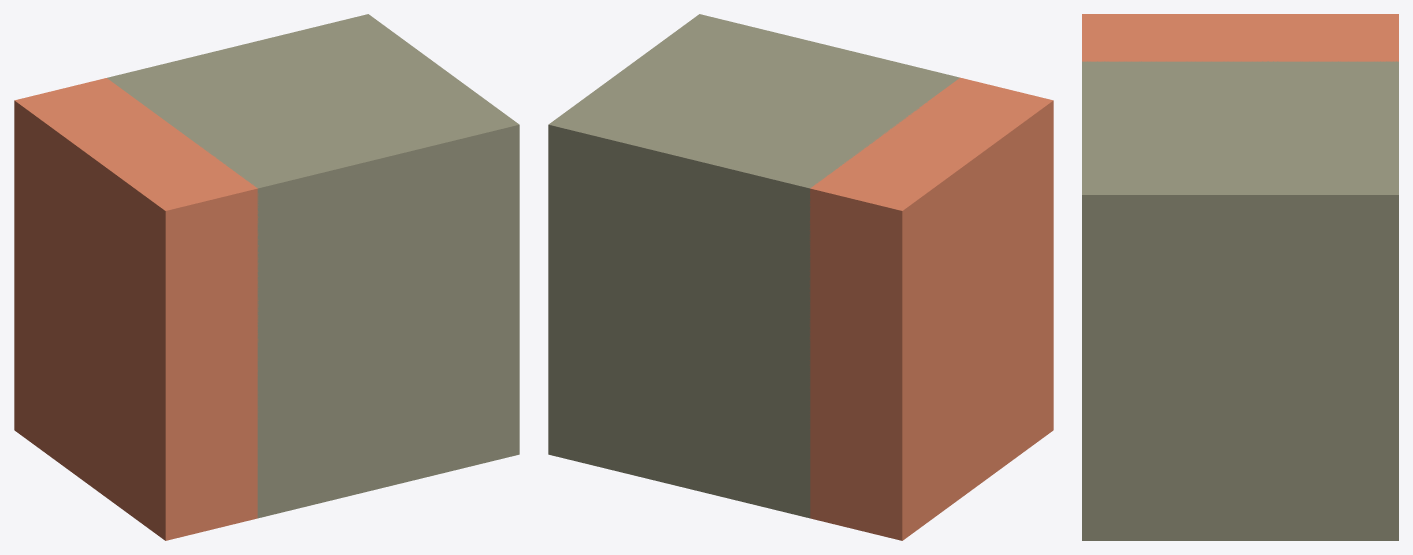
The model's file is tile_pusher 1.fbx.
3 renders of one model, left to right at view 1: azimuth 30°, elevation 25°; view 2: azimuth 150°, elevation 25°; view 3: azimuth 270°, elevation 25°, orthographic. The views are drawn at different scales.
Visible parts, largest first — view 1: Cube, Cube.002; view 2: Cube, Cube.002; view 3: Cube, Cube.002.
Part boxes in pixels (x1,y1,x2,y2): Cube: (107, 14, 519, 518); Cube.002: (14, 78, 258, 540); Cube: (548, 14, 959, 518); Cube.002: (809, 77, 1053, 540); Cube: (1082, 61, 1398, 540); Cube.002: (1082, 14, 1398, 61).
Bounding box in the file's own units: 270 × 241 × 200.
